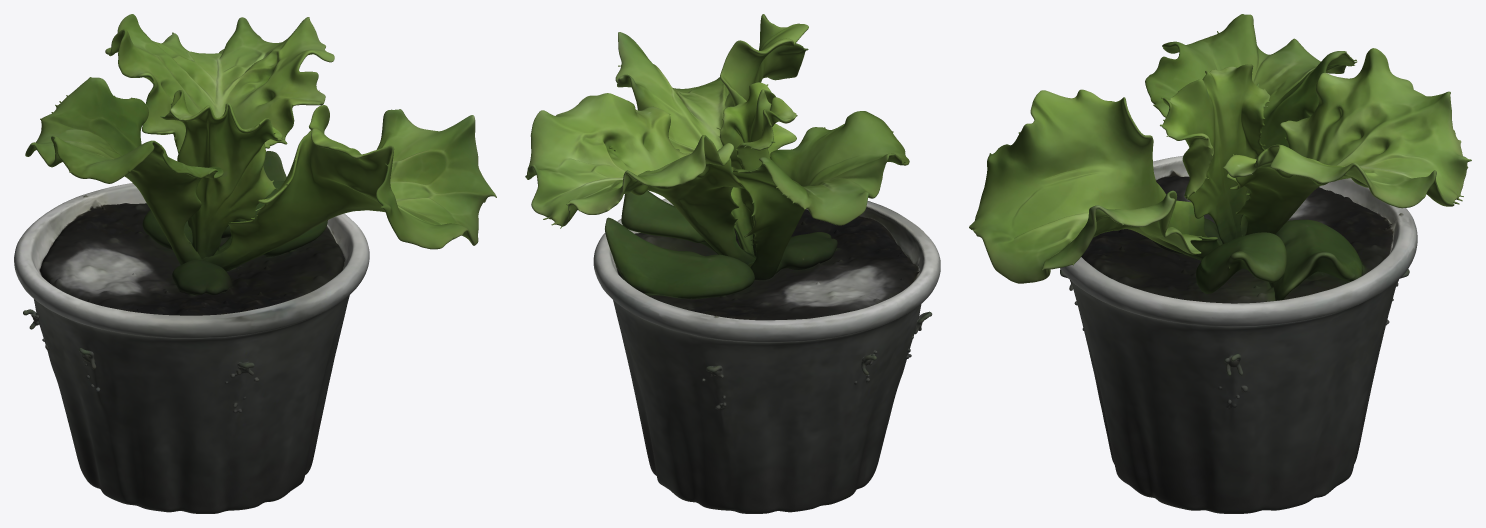
The model's file is olmetie_seedling.glb.
3 renders of one model, left to right at view 1: azimuth 30°, elevation 25°; view 2: azimuth 150°, elevation 25°; view 3: azimuth 270°, elevation 25°, orthographic. The views are drawn at different scales.
Visible parts, largest first — view 1: tripo_node_b1dbeda8-67c5-4b31-ad69-1153a3dcd54c; view 2: tripo_node_b1dbeda8-67c5-4b31-ad69-1153a3dcd54c; view 3: tripo_node_b1dbeda8-67c5-4b31-ad69-1153a3dcd54c.
Part boxes in pixels (box(x1,y1,x2,y2)): tripo_node_b1dbeda8-67c5-4b31-ad69-1153a3dcd54c: box(14, 14, 496, 513); tripo_node_b1dbeda8-67c5-4b31-ad69-1153a3dcd54c: box(525, 14, 940, 513); tripo_node_b1dbeda8-67c5-4b31-ad69-1153a3dcd54c: box(969, 14, 1471, 513).
Bounding box in the file's own units: 0.9038 × 0.9114 × 1.
Materials: 1 (1 with a texture image).
